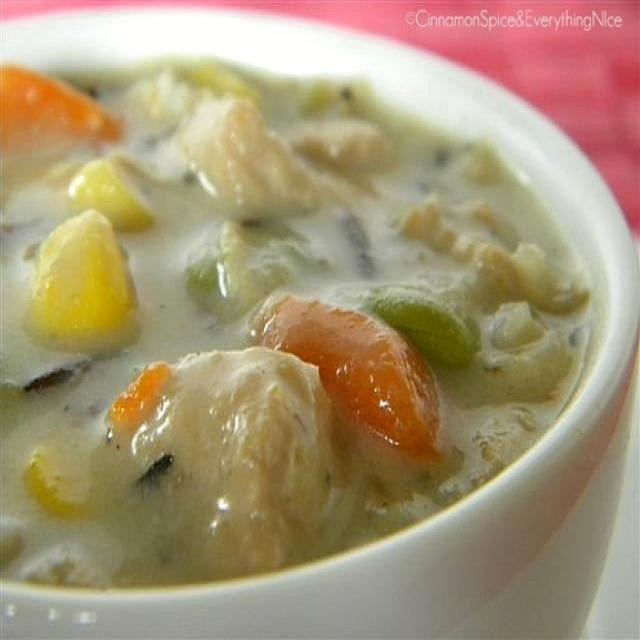汤锅炖物: (8, 15, 609, 610)
